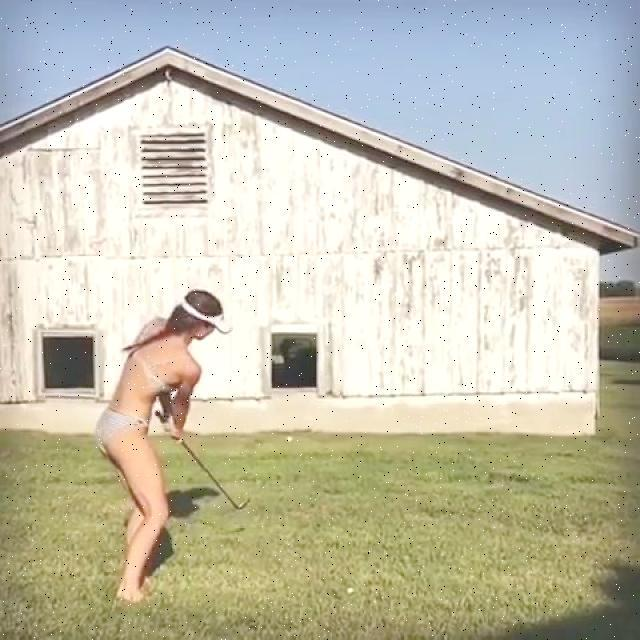ClubHandle: (154, 410, 250, 511)
ClubHead: (236, 496, 250, 512)
GolfBall: (286, 435, 295, 442)
